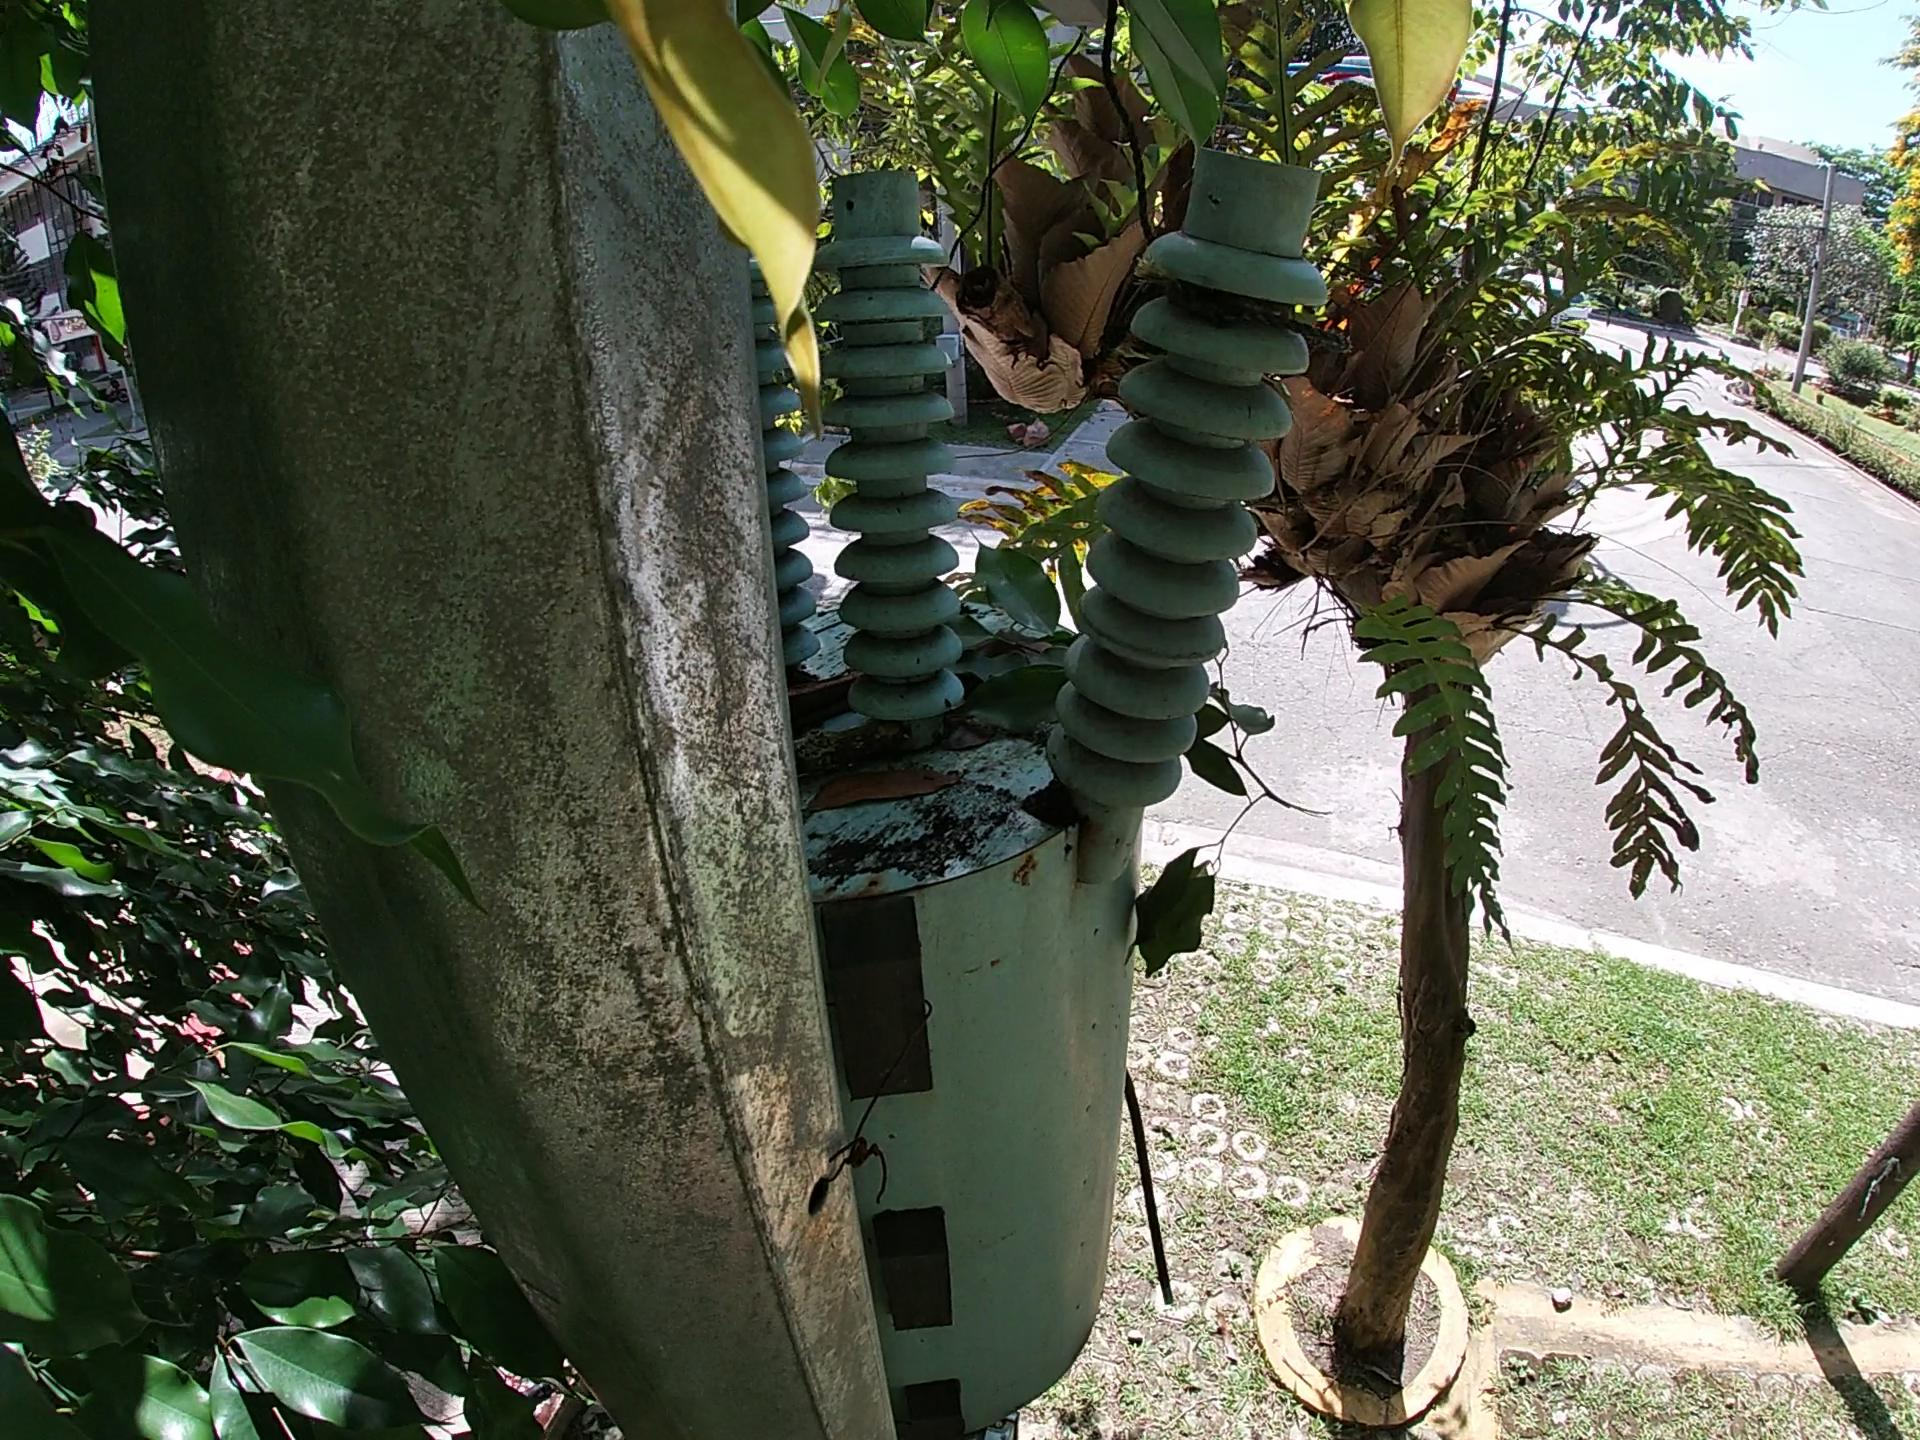branch with leaves: (1129, 663, 1302, 1004)
leaf: (958, 520, 1076, 708), (801, 768, 958, 809)
mahogany fruit: (774, 661, 866, 715)
tree branch: (782, 729, 943, 759)
